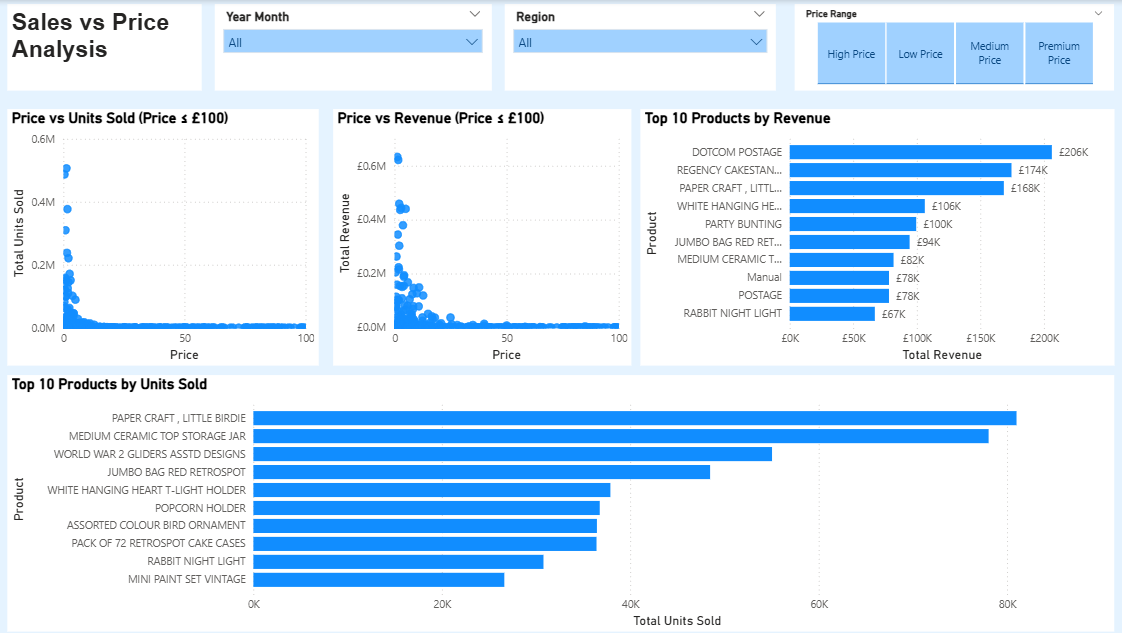

The dashboard page shown, as its layout file describes it:
{"tool":"powerbi","page":{"name":"Sales vs Price Analysis ","canvas":[1280,720],"ordinal":1},"visuals":[{"type":"textbox","box":[9.9,4.9,220.8,98.9],"z":0},{"type":"slicer","fields":{"Values":["Online Retail.Year Month"]},"box":[247.1,4.9,314.7,98.9],"z":1000},{"type":"slicer","fields":{"Values":["Online Retail.Region"]},"box":[576.2,4.5,308.5,98.3],"z":2000},{"type":"slicer","fields":{"Values":["Online Retail.Price Range"]},"box":[905.9,4.5,363,98.3],"z":3000},{"type":"scatterChart","title":"Price vs Units Sold (Price ≤ £100)","fields":{"Y":["Online Retail.Total Units Sold"],"X":["Online Retail.Price"]},"box":[10.6,124,353.9,291.9],"z":4000},{"type":"scatterChart","title":"Price vs Revenue (Price ≤ £100)","fields":{"X":["Online Retail.Price"],"Y":["Online Retail.Total Revenue"]},"box":[380.6,123.6,339.4,291.6],"z":5000},{"type":"clusteredBarChart","title":"Top 10 Products by Revenue","fields":{"Category":["Online Retail.Product"],"Y":["Online Retail.Total Revenue"]},"box":[729.9,123.6,538.8,291.6],"z":6000},{"type":"clusteredBarChart","title":"Top 10 Products by Units Sold","fields":{"Category":["Online Retail.Product"],"Y":["Online Retail.Total Units Sold"]},"box":[9.9,426.7,1258.8,291.6],"z":7000}]}

Visuals, with their boxes in screenshot pixels (x1, y1, x2, y2), scaled from the page's 1280x720 canvas onto the 1122x633 screenshot:
textbox: (9, 4, 202, 91)
slicer - Online Retail.Year Month: (217, 4, 492, 91)
slicer - Online Retail.Region: (505, 4, 775, 90)
slicer - Online Retail.Price Range: (794, 4, 1112, 90)
"Price vs Units Sold (Price ≤ £100)" scatterChart: (9, 109, 320, 366)
"Price vs Revenue (Price ≤ £100)" scatterChart: (334, 109, 631, 365)
"Top 10 Products by Revenue" clusteredBarChart: (640, 109, 1112, 365)
"Top 10 Products by Units Sold" clusteredBarChart: (9, 375, 1112, 632)
